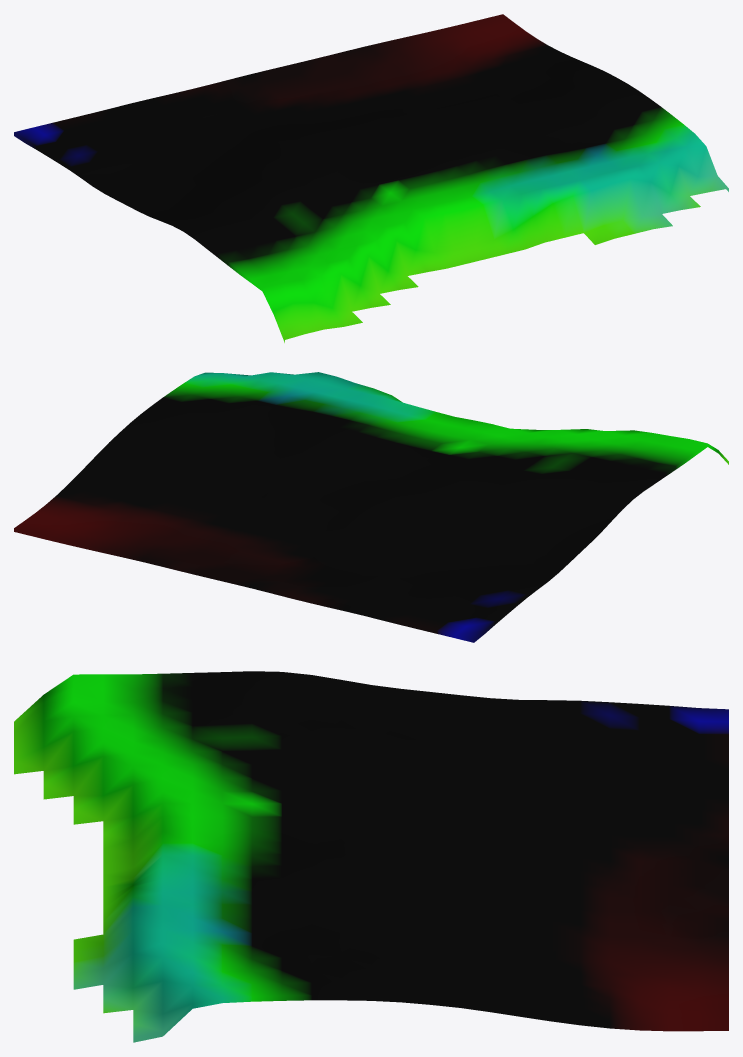
The model's file is coast_7_8.glb.
3 views of the same model, one above another, from view 1: azimuth 30°, elevation 25°; view 2: azimuth 150°, elevation 25°; view 3: azimuth 270°, elevation 25° (orthographic). The views are drawn at different scales.
Parts seen in each view (by area): view 1: terrain; view 2: terrain; view 3: terrain.
Part boxes in pixels (x1=…): terrain: x1=14, y1=14, x2=728, y2=342; terrain: x1=14, y1=372, x2=728, y2=642; terrain: x1=14, y1=671, x2=728, y2=1042.
Size of the model in its own units: 200 by 17.3 by 192.
